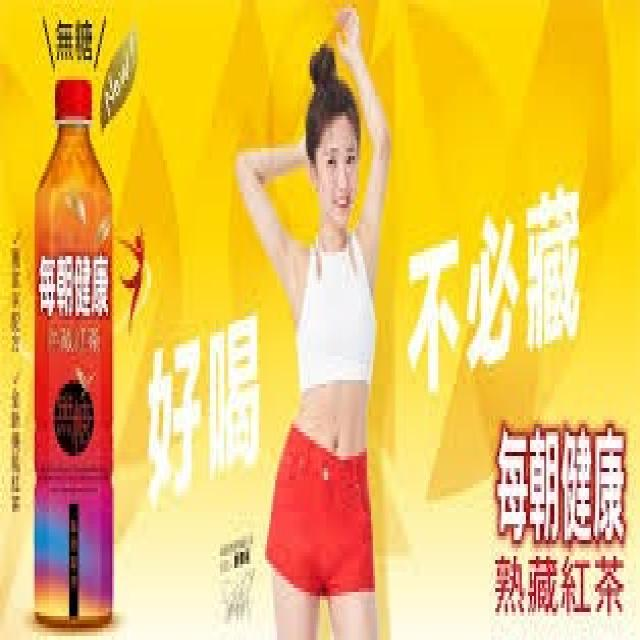MeiChou_BlackTea: (34, 71, 117, 624)
